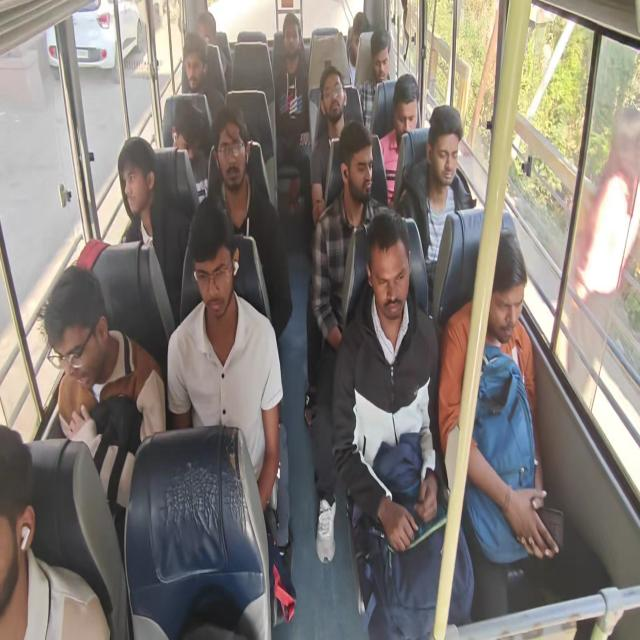person: (330, 209, 474, 638), (438, 224, 560, 566), (304, 120, 390, 564), (166, 197, 284, 518), (38, 264, 166, 524), (0, 424, 111, 639), (565, 105, 639, 408), (205, 104, 293, 340), (397, 104, 475, 302), (117, 136, 190, 326), (272, 11, 312, 210), (310, 65, 348, 226), (378, 73, 420, 208), (117, 135, 159, 246), (181, 31, 225, 126), (171, 99, 210, 203), (358, 28, 392, 131), (196, 10, 231, 91), (346, 11, 369, 86)
